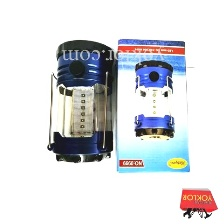book: (111, 31, 195, 180)
